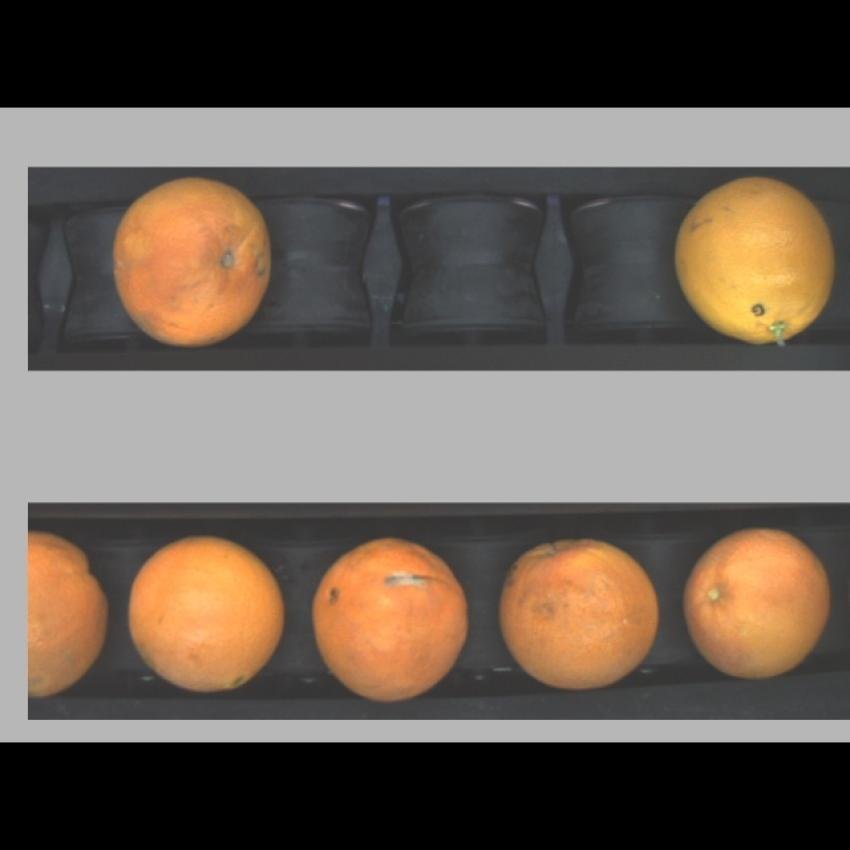Buen estado: (672, 178, 836, 344), (127, 537, 290, 693), (679, 526, 842, 680)
Mal estado: (108, 180, 276, 348), (310, 532, 472, 701), (495, 541, 668, 697), (28, 535, 108, 704)
